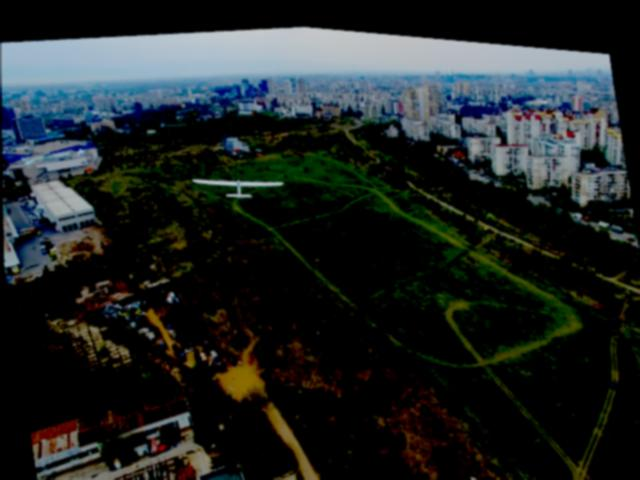plane: (191, 163, 284, 202)
